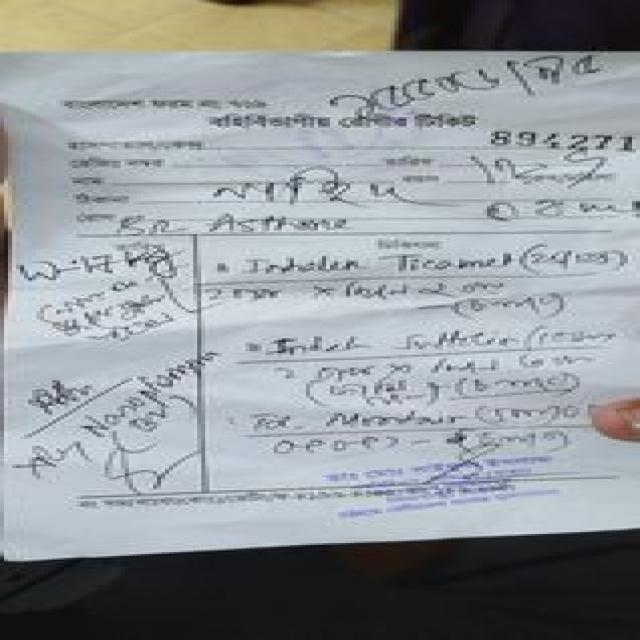Montair: (308, 403, 475, 434)
Sultolin: (368, 322, 544, 359)
Ticamet Inhaler: (361, 245, 529, 279)
